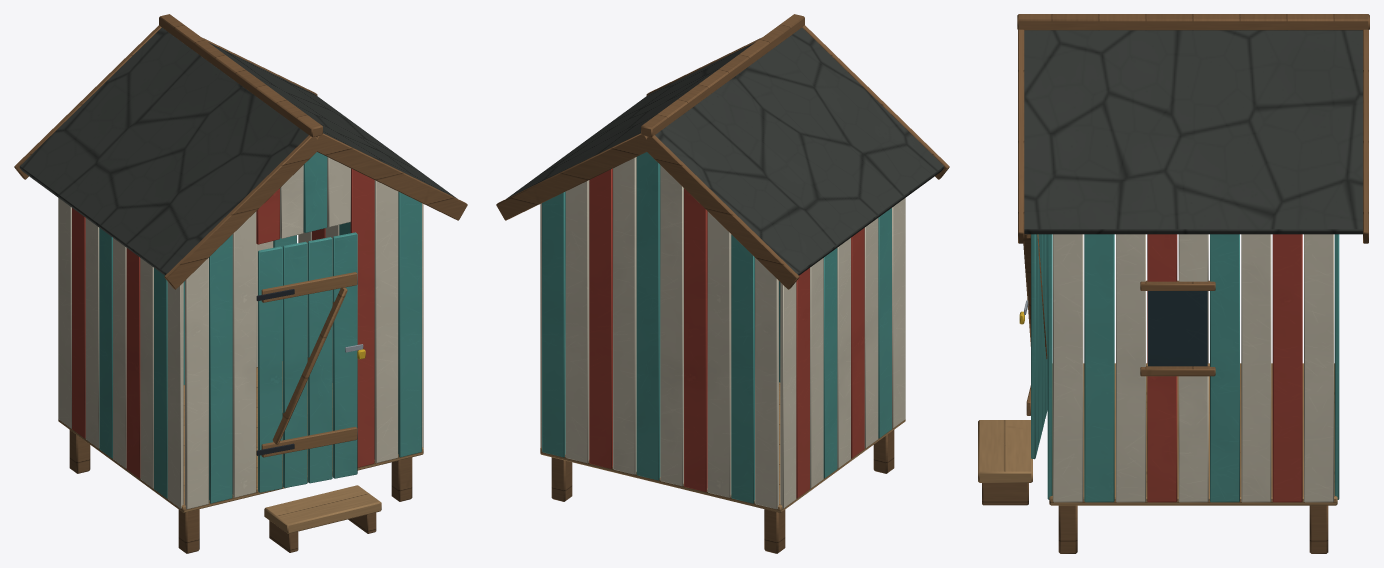
Rendered from beach_hut.glb.
3 renders of one model, left to right at view 1: azimuth 30°, elevation 25°; view 2: azimuth 150°, elevation 25°; view 3: azimuth 270°, elevation 25°, orthographic. The views are drawn at different scales.
Visible parts, largest first — view 1: beach_hut; view 2: beach_hut; view 3: beach_hut.
Part boxes in pixels (<box>): beach_hut: <box>14,14,467,553</box>; beach_hut: <box>496,14,949,553</box>; beach_hut: <box>978,14,1369,553</box>.
Bounding box in the file's own units: 2.55 × 3.34 × 2.5.
Materials: 12 (12 with a texture image).
